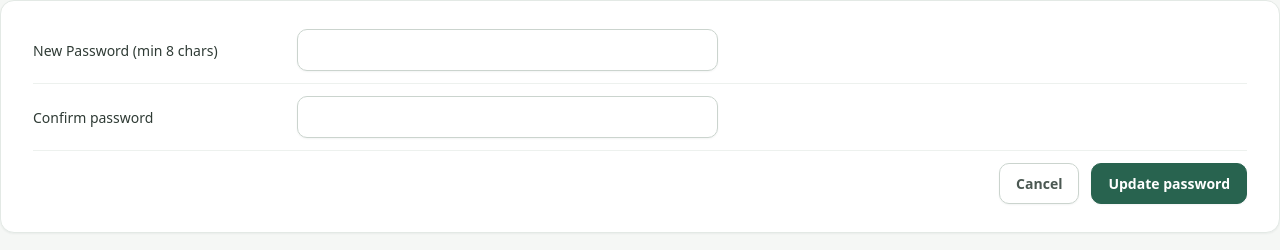
Test: UpdatePasswordForm › rejects a password confirmation that does not match
Step 1. Type "synthetic-password" into the password field labelled "New Password (min 8 chars)" → (507, 50), box [297,29,718,71]
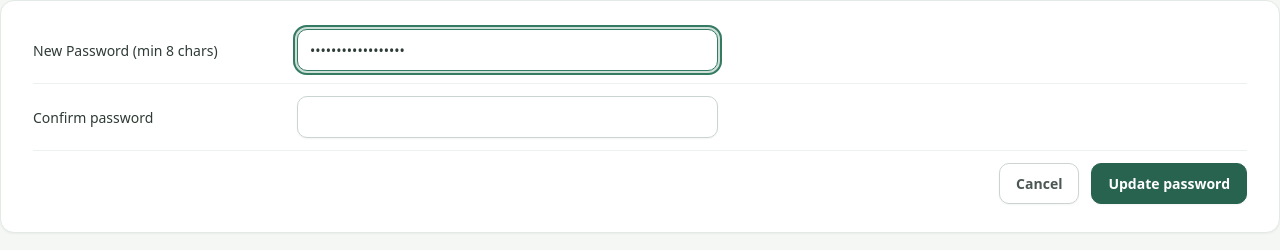
Step 2. Type "different-synthetic-password" into the password field labelled "Confirm password" → (507, 117), box [297,96,718,138]
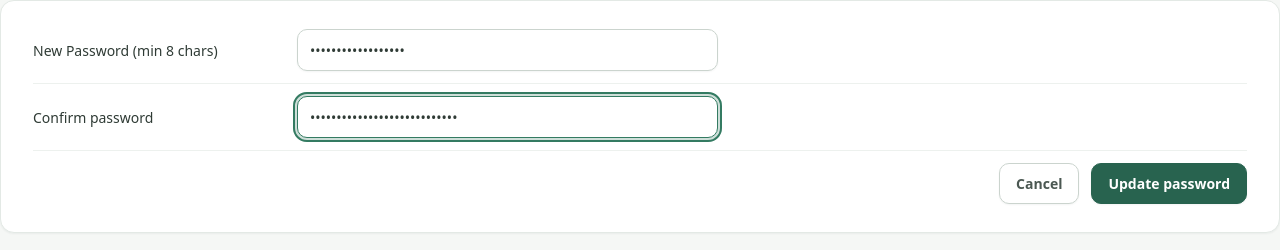
Step 3. Click the button "Update password" → (1169, 184), box [1091,163,1247,204]
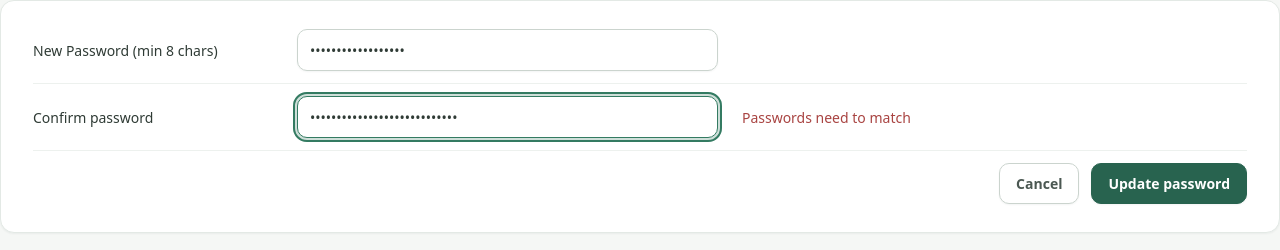
Expected: the text "Passwords need to match" is shown, [742,108,911,126]
